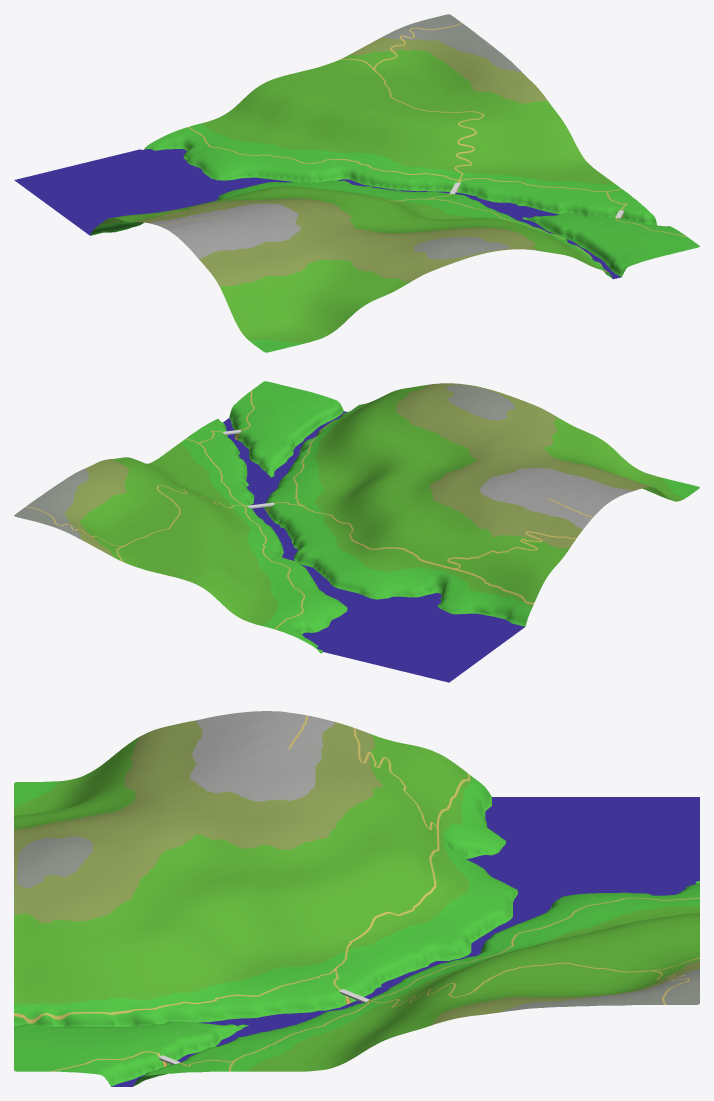
Rendered from Map Ready.fbx.
The picture shows the model from 3 angles, top to bottom: view 1: azimuth 30°, elevation 25°; view 2: azimuth 150°, elevation 25°; view 3: azimuth 270°, elevation 25°; orthographic projection. The views are drawn at different scales.
Parts seen in each view (by area): view 1: Plane; view 2: Plane; view 3: Plane.
Part boxes in pixels (left/top/right/bottom): Plane: left=14, top=14, right=699, bottom=352; Plane: left=14, top=381, right=699, bottom=682; Plane: left=14, top=711, right=699, bottom=1086.
Size of the model in its own units: 1960 by 1960 by 281.
